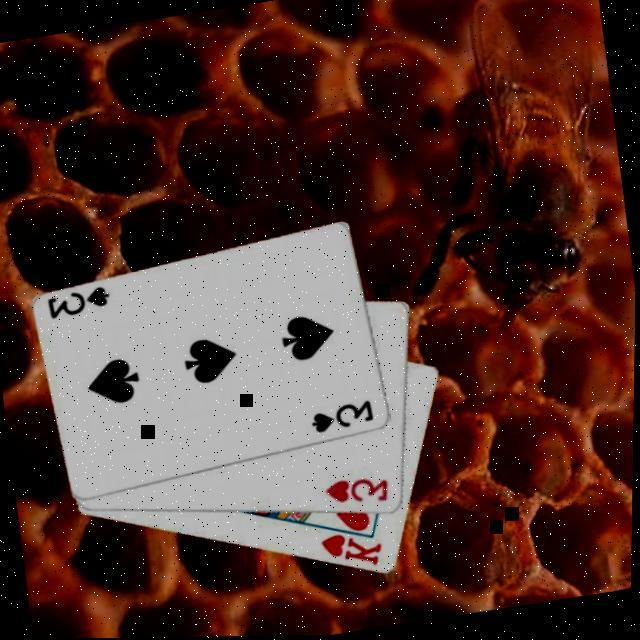3H: (324, 469, 396, 512)
3S: (308, 396, 381, 437), (45, 281, 116, 321)
KH: (319, 524, 390, 576)
